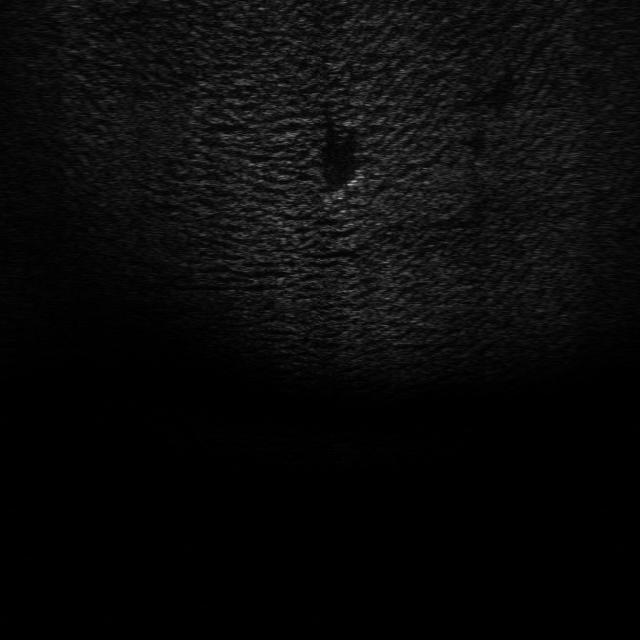plane: (317, 161, 368, 204)
